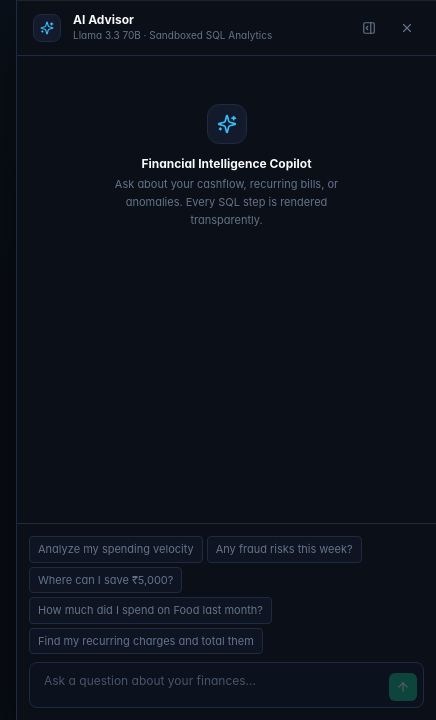
AIChatDrawer › runs a question through the agent and renders tool cards before the answer
This screenshot has width=436, height=720.
Click the button "How much did I spend on Food last month?": [150, 610] box [29,597,272,624]
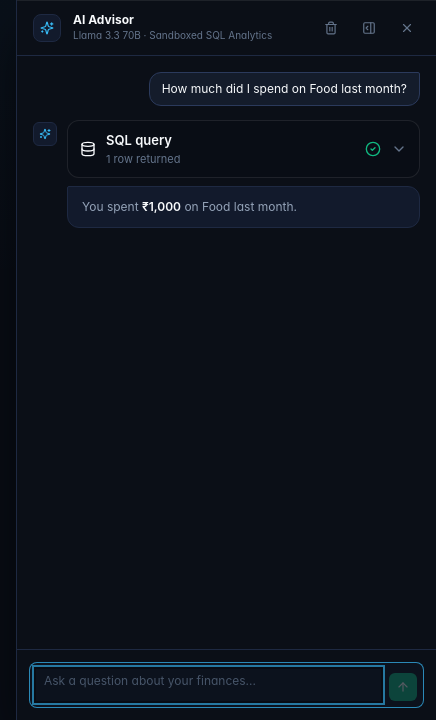
Check: the text "How much did I spend on Food last month?" is shown, box [149,72,420,106]
Check: the text "You spent" is shown, box [82,199,142,214]
Check: the text "SQL query" is shown, box [106,132,172,148]
